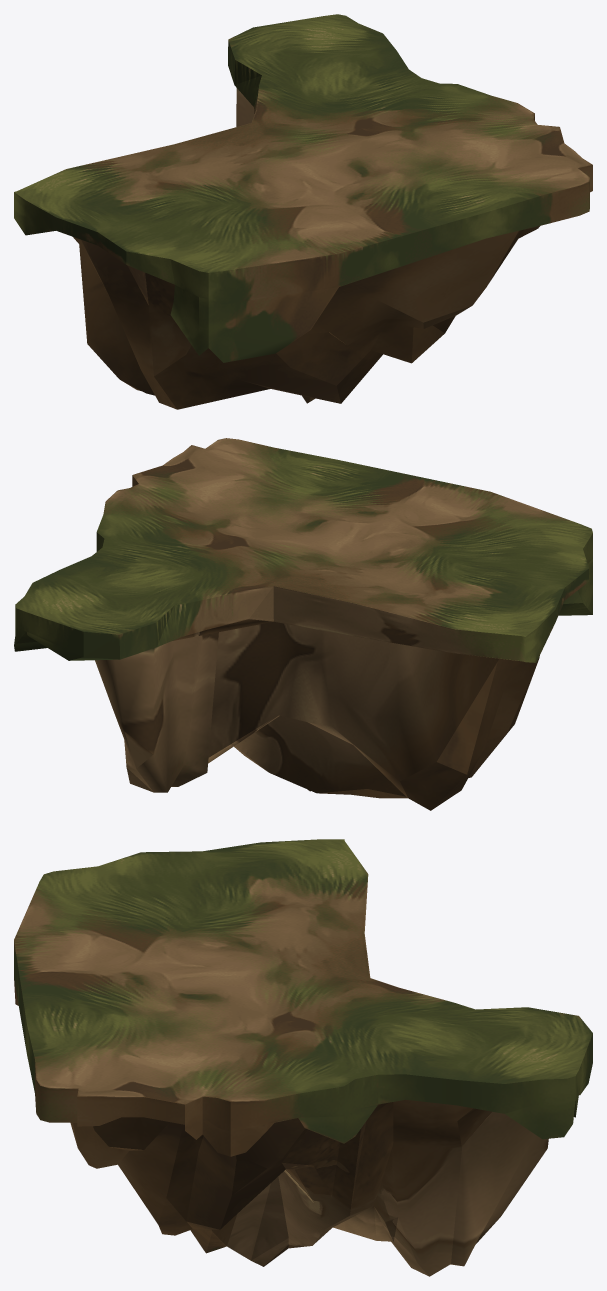
File: wyspa_mala_L.obj
The picture shows the model from 3 angles, top to bottom: view 1: azimuth 30°, elevation 25°; view 2: azimuth 150°, elevation 25°; view 3: azimuth 270°, elevation 25°; orthographic projection. The views are drawn at different scales.
Parts seen in each view (by area): view 1: Landscape.003; view 2: Landscape.003; view 3: Landscape.003.
Part boxes in pixels (<box>): Landscape.003: <box>14,14,592,409</box>; Landscape.003: <box>14,438,592,810</box>; Landscape.003: <box>14,839,592,1276</box>.
Size of the model in its own units: 55.17 by 27.53 by 50.86.
Materials: 1 (1 with a texture image).
